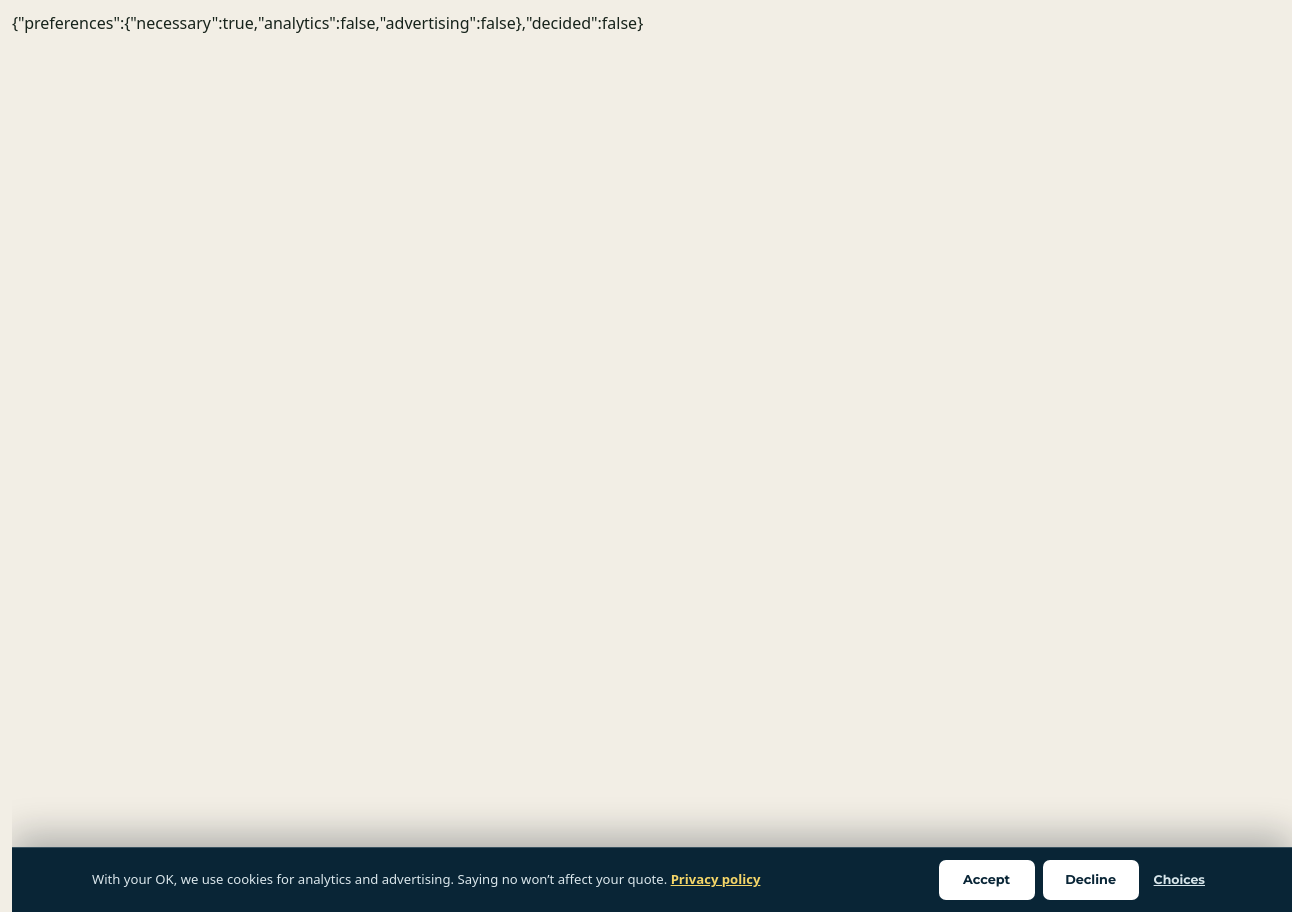
Scenario: website privacy consent › rejects nonessential consent and updates the public context
Click the button "Decline" at (1091, 880), box [1043,860,1139,900]
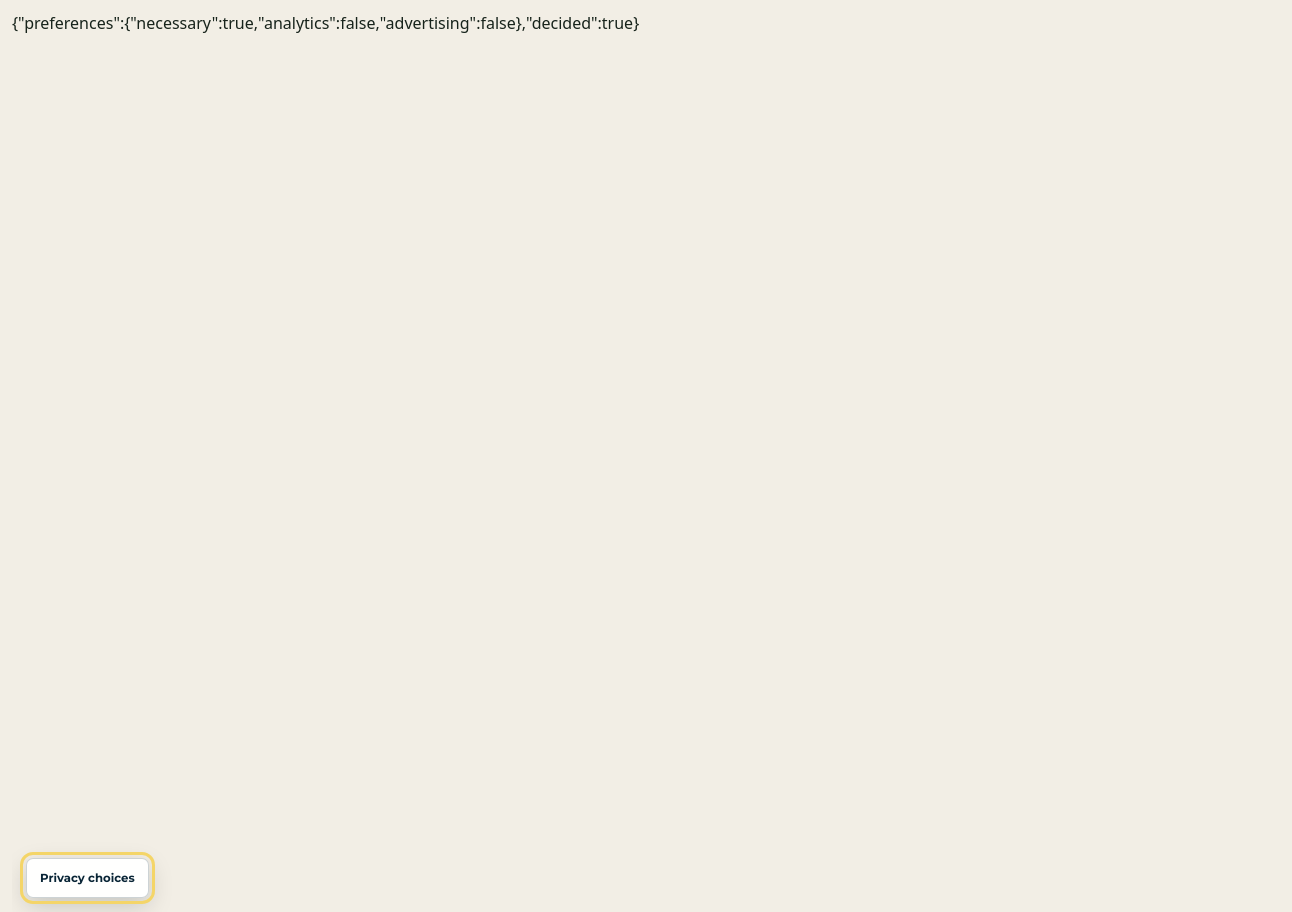
Expected: the text "\"advertising\":false" is shown, [12,12,639,34]
Now the text "\"decided\":true" is shown, box [12,12,639,34]
